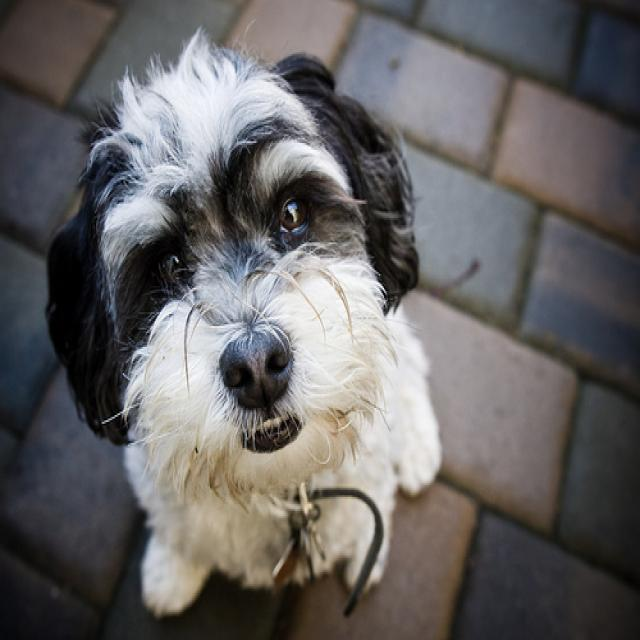dog-havanese: (32, 35, 444, 619)
